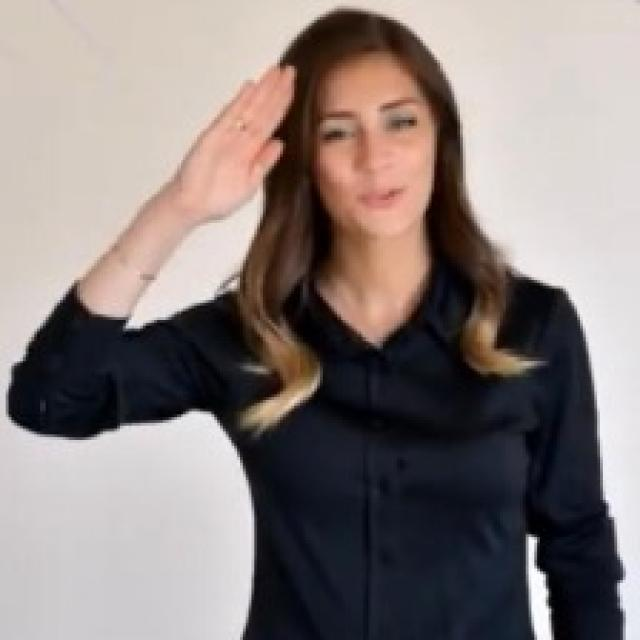Thanks: (177, 59, 300, 224)
